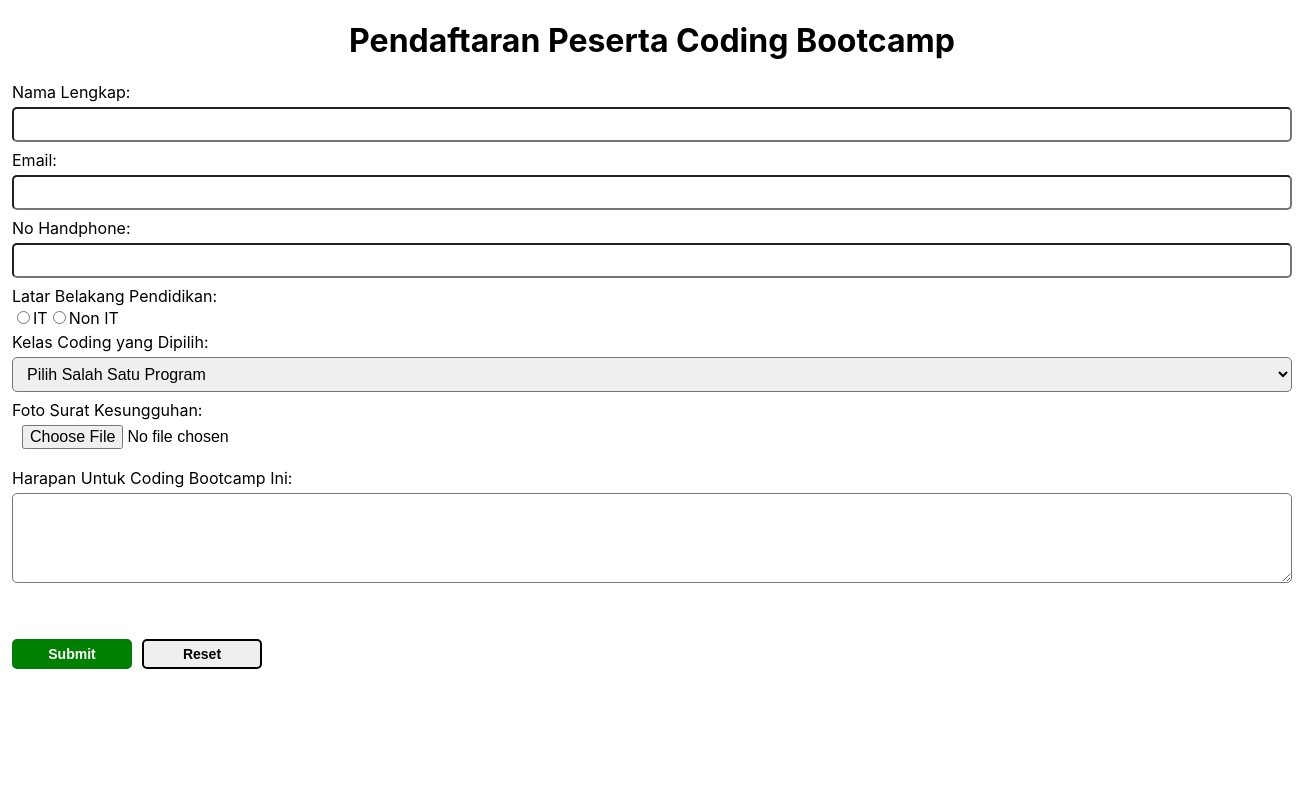
it: FormCoding › input text for nama with number
Type "Budi Is4" into the field labelled "Nama Lengkap:" at (652, 124), box top-left (12, 107), bottom-right (1292, 142)
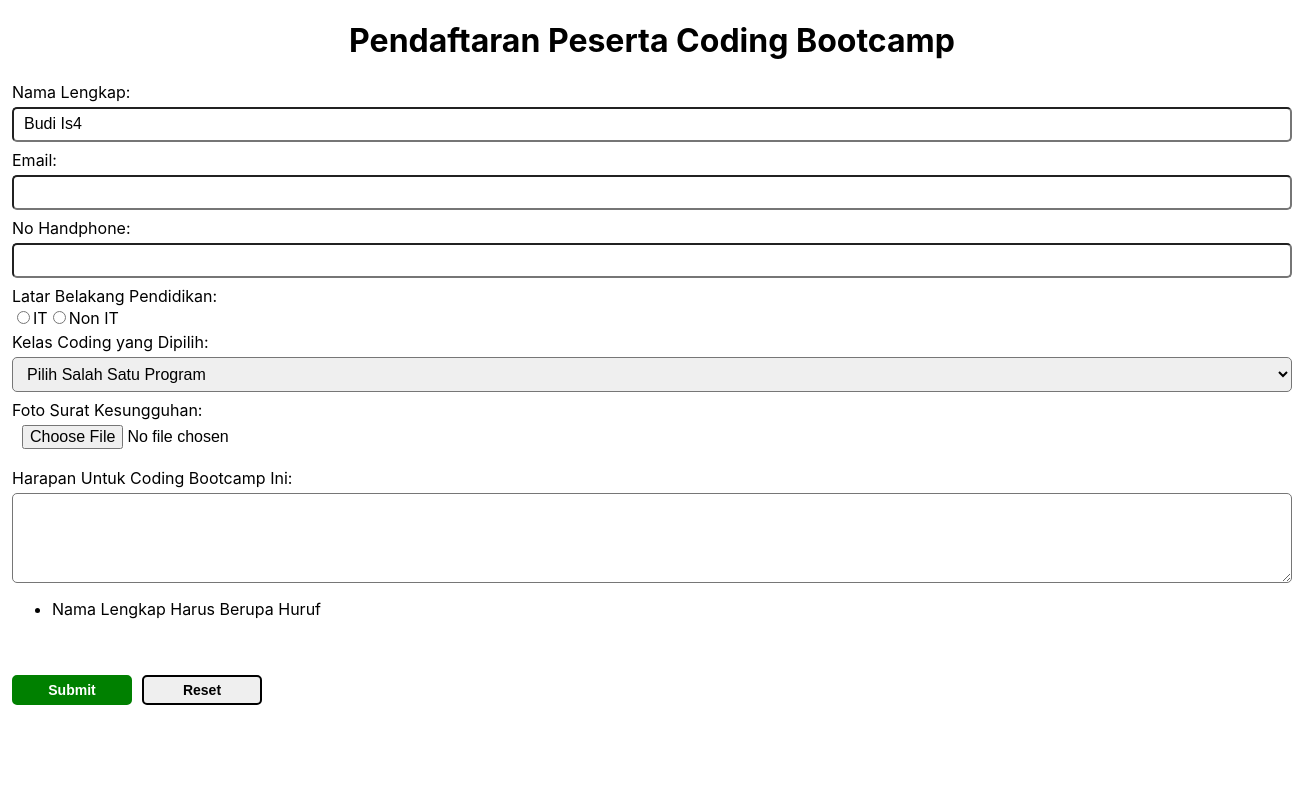
Type "aa2" into the field labelled "Email:" at (652, 192), box top-left (12, 175), bottom-right (1292, 210)
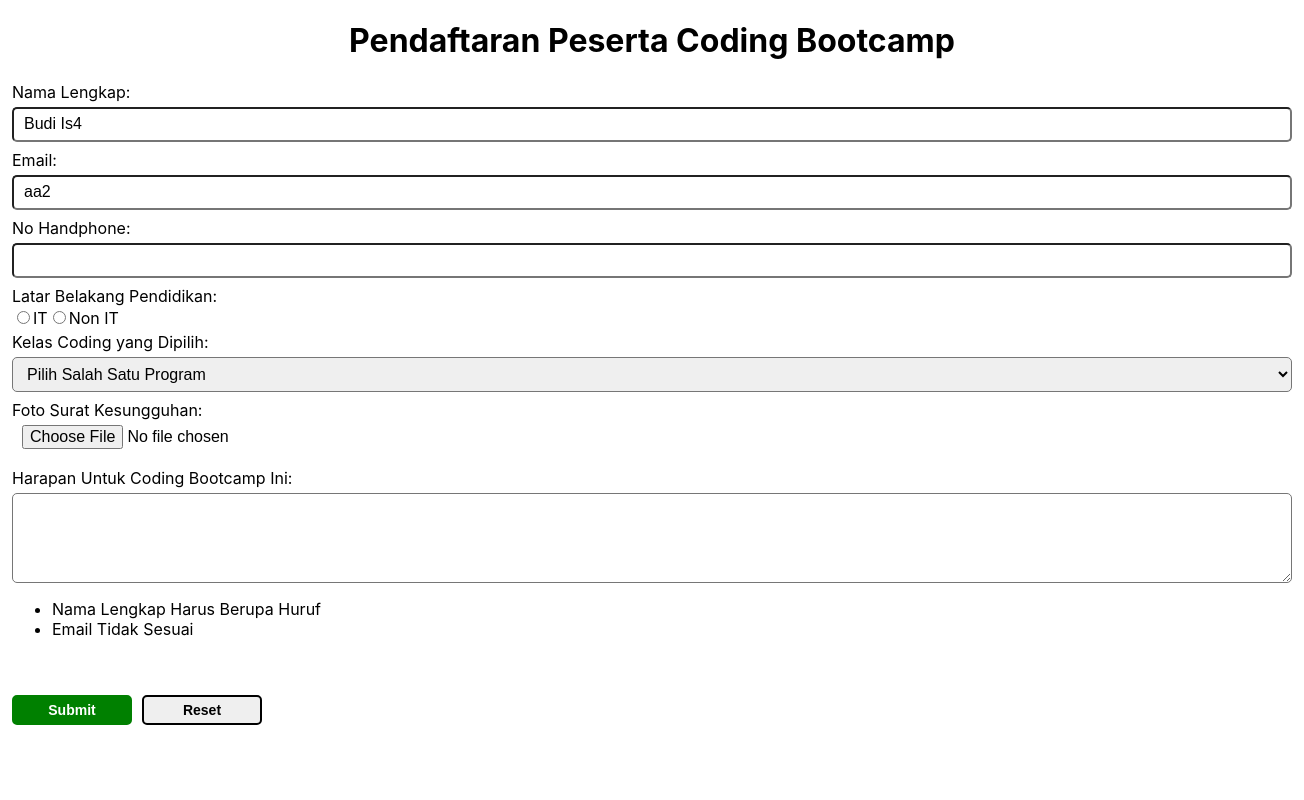
Type "08967261" into the field labelled "No Handphone:" at (652, 260), box top-left (12, 243), bottom-right (1292, 278)
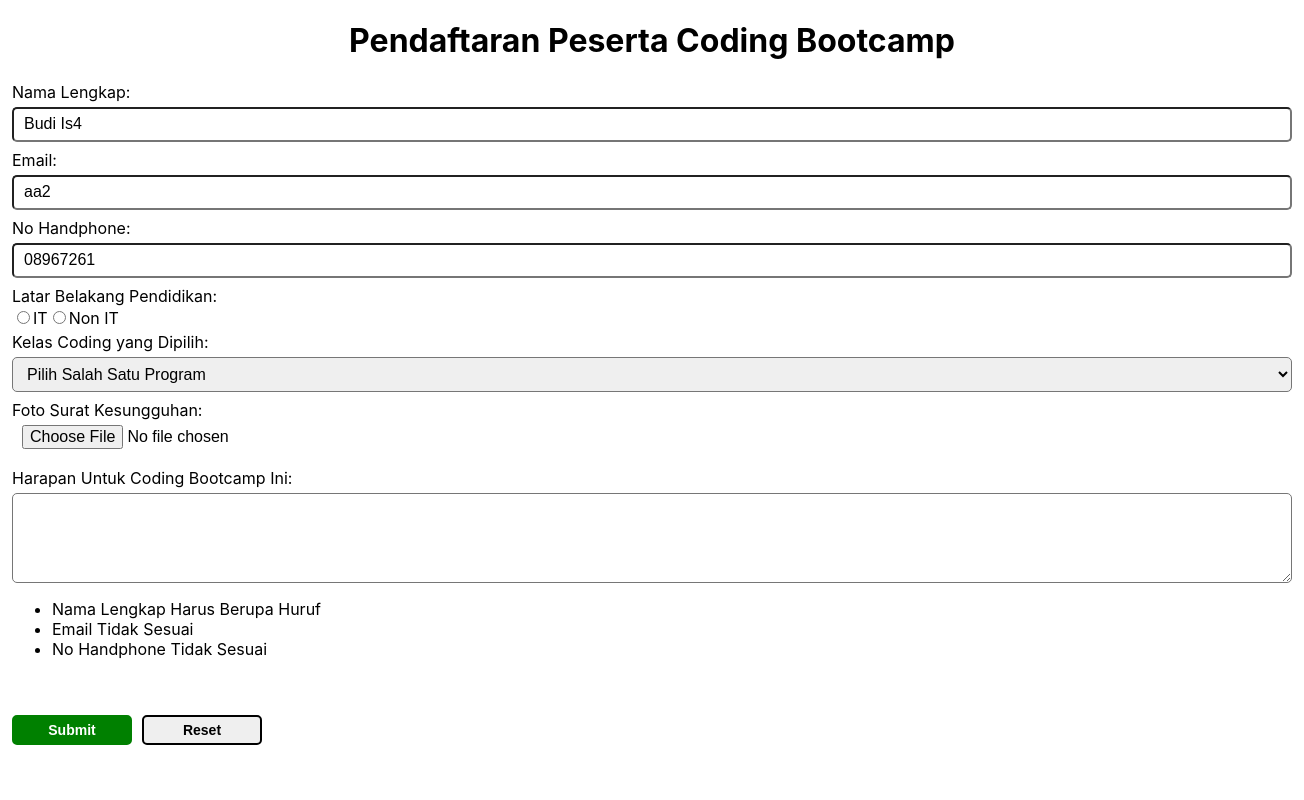
Expected: the list item "Nama Lengkap Harus Berupa Huruf" is shown, top-left (52, 599), bottom-right (321, 619)
Expected: the list item "Email Tidak Sesuai" is shown, top-left (52, 619), bottom-right (194, 639)
Expected: the list item "No Handphone Tidak Sesuai" is shown, top-left (52, 639), bottom-right (267, 659)
